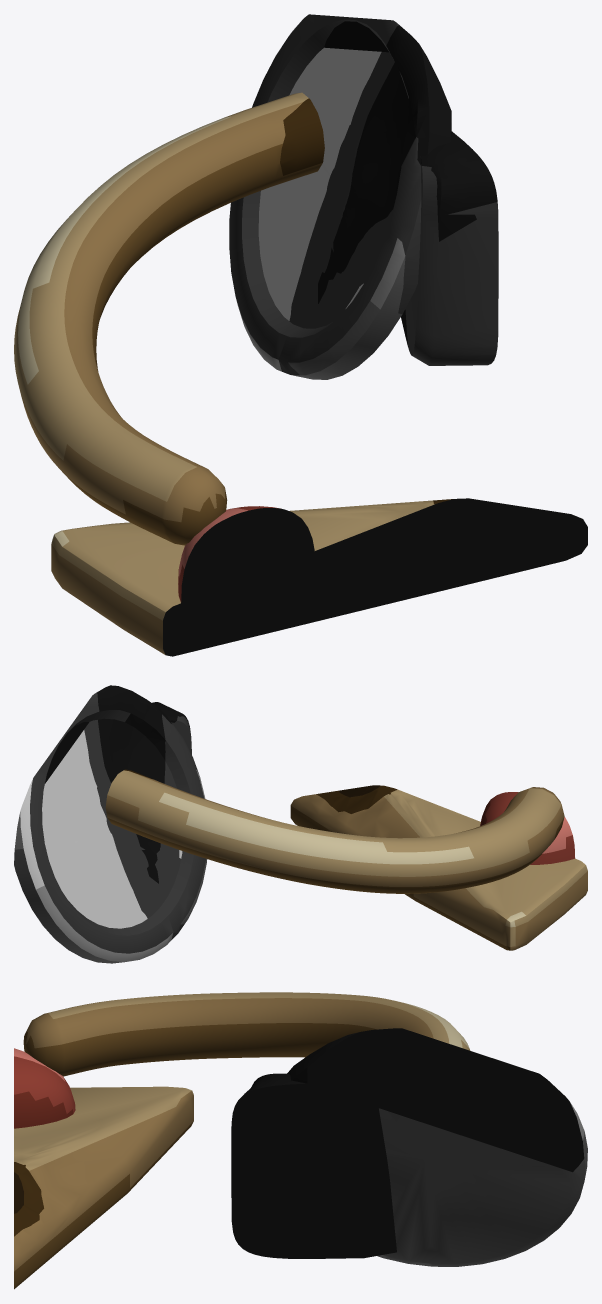
The model's file is tusk_boss_162.glb.
3 renders of one model, top to bottom at view 1: azimuth 30°, elevation 25°; view 2: azimuth 150°, elevation 25°; view 3: azimuth 270°, elevation 25°, orthographic. The views are drawn at different scales.
Parts seen in each view (by area): view 1: tusk_boss_162; view 2: tusk_boss_162; view 3: tusk_boss_162.
Boxes of the visible parts, box(x1,y1,x2,y2) form: tusk_boss_162: box(14, 14, 587, 656); tusk_boss_162: box(14, 685, 587, 963); tusk_boss_162: box(14, 992, 587, 1289).
Bounding box in the file's own units: 19.45 × 13.57 × 24.86.
